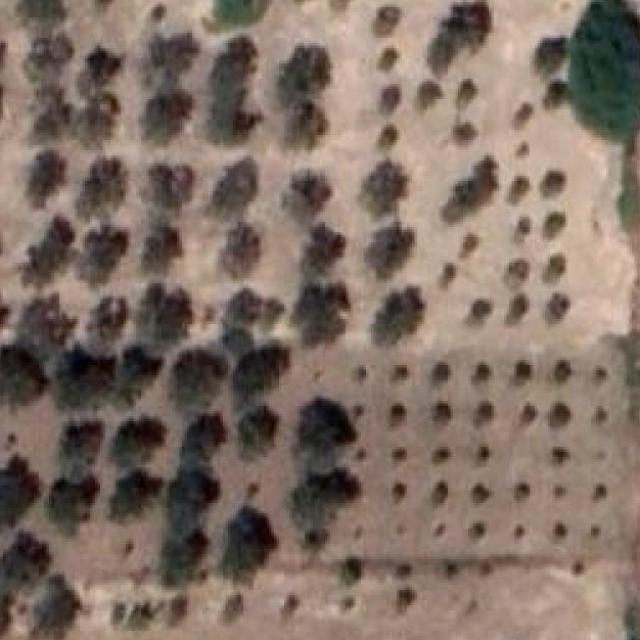Tree: (573, 0, 640, 147), (274, 472, 356, 551), (195, 41, 254, 143), (422, 0, 496, 74), (286, 268, 356, 340), (266, 46, 338, 111), (57, 97, 129, 160), (49, 342, 116, 409), (70, 150, 133, 221), (130, 278, 194, 347), (24, 572, 87, 640), (15, 89, 72, 163), (291, 399, 356, 463), (227, 345, 291, 410), (136, 82, 195, 152), (217, 501, 271, 577), (437, 158, 499, 224), (17, 215, 80, 278), (158, 465, 214, 528), (0, 337, 47, 412), (72, 291, 126, 356), (12, 288, 70, 348), (138, 22, 197, 80), (106, 411, 162, 471), (362, 220, 414, 284), (0, 447, 42, 523), (102, 469, 156, 528), (170, 348, 218, 414), (0, 534, 51, 596), (81, 225, 131, 285), (41, 471, 97, 524), (366, 284, 422, 336), (12, 25, 62, 83), (110, 344, 156, 407), (168, 413, 228, 460), (61, 414, 106, 476), (134, 217, 180, 277), (277, 171, 330, 223), (361, 160, 412, 214), (236, 404, 279, 465), (277, 104, 325, 158), (14, 150, 64, 200), (218, 227, 258, 289), (214, 164, 258, 218), (402, 76, 445, 128), (524, 36, 572, 78), (302, 230, 342, 278), (223, 292, 276, 328), (144, 160, 187, 204), (73, 51, 119, 92), (533, 294, 578, 334), (163, 542, 197, 590), (208, 0, 262, 30), (16, 0, 62, 35), (528, 252, 568, 292), (444, 76, 484, 115), (488, 294, 530, 330), (371, 33, 402, 80), (298, 524, 332, 564), (367, 5, 400, 46), (158, 590, 189, 630), (448, 110, 484, 144), (373, 122, 407, 158), (210, 590, 243, 627), (546, 354, 578, 392), (371, 86, 407, 119), (539, 204, 570, 242), (511, 130, 542, 167), (453, 230, 483, 268), (501, 260, 532, 296), (434, 260, 465, 296), (541, 73, 573, 106), (124, 600, 151, 636), (337, 554, 366, 587), (504, 212, 532, 246), (278, 587, 306, 619), (386, 590, 420, 616), (501, 184, 532, 212), (467, 299, 494, 330), (534, 163, 560, 195), (539, 401, 567, 429), (441, 562, 468, 591), (425, 516, 450, 547), (430, 404, 455, 434), (545, 445, 570, 475), (335, 588, 363, 614), (467, 365, 496, 390), (464, 481, 489, 508), (430, 363, 458, 387), (507, 483, 530, 511), (506, 360, 532, 384), (546, 518, 572, 542), (222, 334, 245, 361), (383, 404, 407, 429), (509, 521, 532, 547), (518, 404, 540, 431), (511, 99, 532, 125), (476, 557, 497, 583), (387, 445, 410, 468), (385, 483, 407, 507), (466, 518, 487, 543), (463, 442, 489, 461), (550, 477, 571, 500), (587, 483, 609, 504), (427, 481, 448, 503), (349, 363, 373, 382), (394, 360, 412, 384), (430, 449, 450, 469), (476, 404, 494, 426), (393, 564, 412, 584), (587, 523, 603, 546), (570, 561, 586, 582), (85, 0, 112, 11)
